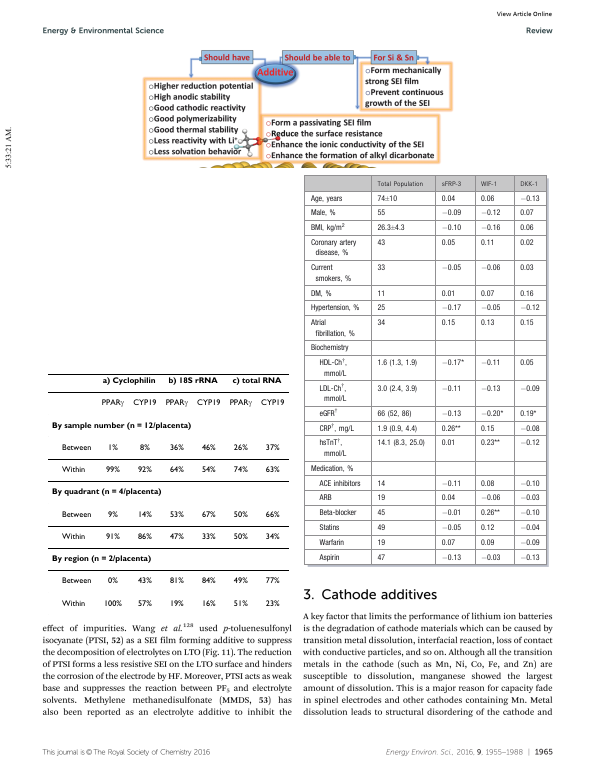bordered: (304, 173, 546, 564)
borderless: (46, 372, 290, 616)
cell: (50, 421, 192, 431), (50, 488, 162, 497), (50, 555, 152, 564), (309, 239, 357, 258), (309, 319, 355, 338), (309, 264, 352, 284), (318, 357, 347, 379), (318, 383, 347, 404), (318, 438, 347, 459), (100, 388, 124, 410), (164, 388, 188, 410), (228, 388, 252, 410), (101, 377, 156, 386), (167, 377, 218, 386), (231, 377, 282, 386), (309, 304, 360, 313), (376, 439, 425, 448), (309, 464, 354, 473), (309, 222, 345, 233), (318, 479, 361, 488), (376, 359, 418, 368), (376, 384, 418, 393), (376, 424, 418, 433), (376, 181, 423, 189), (309, 344, 349, 353), (376, 409, 412, 419), (318, 423, 354, 433), (318, 509, 357, 518), (309, 194, 343, 203), (376, 224, 405, 233), (60, 443, 92, 451), (60, 510, 92, 518), (60, 577, 92, 585), (479, 409, 504, 419), (309, 209, 336, 218), (318, 538, 345, 547), (318, 408, 338, 419), (440, 409, 462, 419), (318, 523, 340, 533), (440, 523, 462, 533), (440, 359, 464, 368), (519, 523, 540, 533), (60, 532, 86, 540), (60, 599, 86, 607), (309, 289, 332, 298), (132, 399, 157, 407), (196, 399, 221, 407), (260, 399, 285, 407), (376, 194, 398, 203), (440, 209, 462, 218), (479, 209, 501, 218), (440, 224, 462, 233), (479, 224, 501, 233), (440, 264, 462, 273), (479, 264, 501, 273), (440, 304, 462, 313), (479, 304, 501, 313), (479, 359, 501, 368), (440, 384, 462, 393), (479, 384, 501, 393), (440, 479, 462, 488), (479, 494, 501, 503), (440, 509, 462, 518), (318, 553, 340, 562), (440, 553, 462, 562), (479, 553, 501, 562), (519, 194, 540, 203), (519, 304, 540, 313), (519, 384, 540, 393), (440, 424, 461, 433), (519, 424, 540, 433), (479, 439, 500, 448), (519, 439, 540, 448), (519, 479, 540, 488), (519, 494, 540, 503), (479, 509, 500, 518), (519, 509, 540, 518), (519, 538, 540, 547), (519, 553, 540, 562), (60, 466, 86, 473), (519, 409, 537, 419), (440, 181, 462, 189), (102, 599, 122, 607), (479, 523, 495, 533), (519, 181, 538, 189), (479, 181, 497, 189), (440, 194, 456, 203), (479, 194, 495, 203), (440, 239, 456, 248), (479, 239, 495, 248), (440, 289, 456, 298), (479, 289, 495, 298), (440, 319, 456, 328), (479, 319, 495, 328), (479, 424, 495, 433), (440, 439, 456, 448), (479, 479, 495, 488), (440, 494, 456, 503), (440, 538, 456, 547), (479, 538, 495, 547), (519, 209, 534, 218), (519, 224, 534, 233), (519, 239, 534, 248), (519, 264, 534, 273), (519, 289, 534, 298), (519, 319, 534, 328), (519, 359, 534, 368), (168, 443, 184, 451), (200, 443, 216, 451), (232, 443, 248, 451), (264, 443, 280, 451), (136, 510, 152, 518), (168, 510, 184, 518), (200, 510, 216, 518), (232, 510, 248, 518), (264, 510, 280, 518), (104, 532, 120, 540), (136, 532, 152, 540), (168, 532, 184, 540), (200, 532, 216, 540), (232, 532, 248, 540), (264, 532, 280, 540), (136, 577, 152, 585), (168, 577, 184, 585), (200, 577, 216, 585), (232, 577, 248, 585), (264, 577, 280, 585), (136, 599, 152, 607), (168, 599, 184, 607), (200, 599, 216, 607), (232, 599, 248, 607), (264, 599, 280, 607), (318, 494, 332, 503), (104, 466, 120, 473), (136, 466, 152, 473), (168, 466, 184, 473), (200, 466, 216, 473), (232, 466, 248, 473), (264, 466, 280, 473), (376, 523, 386, 533), (376, 209, 386, 218), (376, 239, 386, 248), (376, 264, 386, 273), (376, 289, 386, 298), (376, 304, 386, 313), (376, 319, 386, 328), (376, 479, 386, 488), (376, 494, 386, 503), (376, 509, 386, 518), (376, 538, 386, 547), (376, 553, 386, 562), (107, 443, 118, 451), (139, 443, 150, 451), (107, 510, 118, 518), (107, 577, 118, 585)
